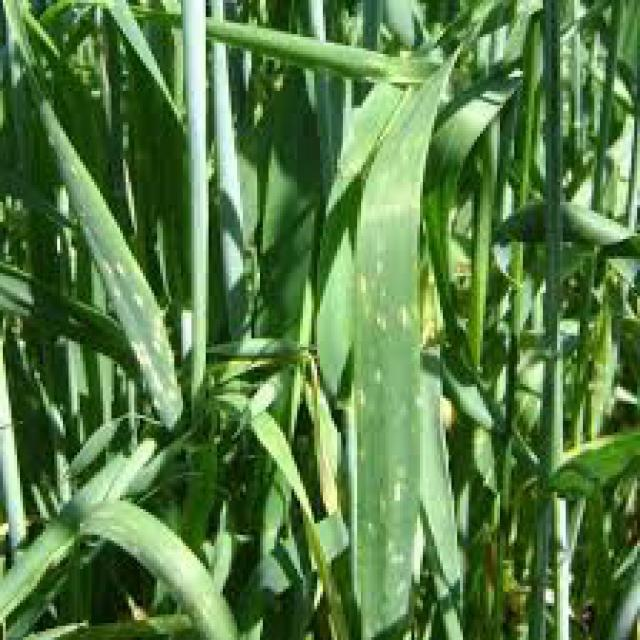wheat-powdery-mildew: (44, 116, 185, 439), (355, 130, 432, 635)
